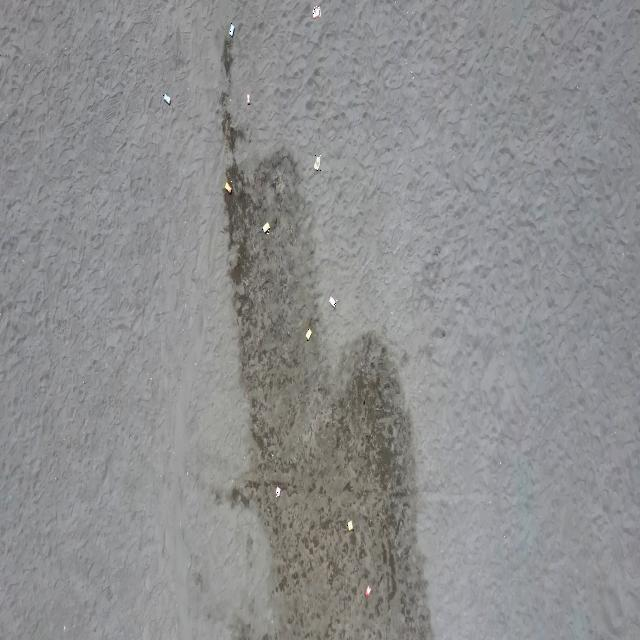retort-pouch: (311, 4, 322, 20), (312, 156, 320, 173), (224, 181, 233, 195), (163, 92, 172, 106), (228, 22, 235, 39), (328, 296, 337, 309), (262, 220, 270, 234), (365, 584, 372, 599), (305, 328, 312, 342), (346, 520, 354, 532), (275, 485, 282, 498), (246, 92, 251, 106)
